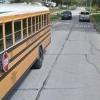Bus: (3, 4, 53, 100)
